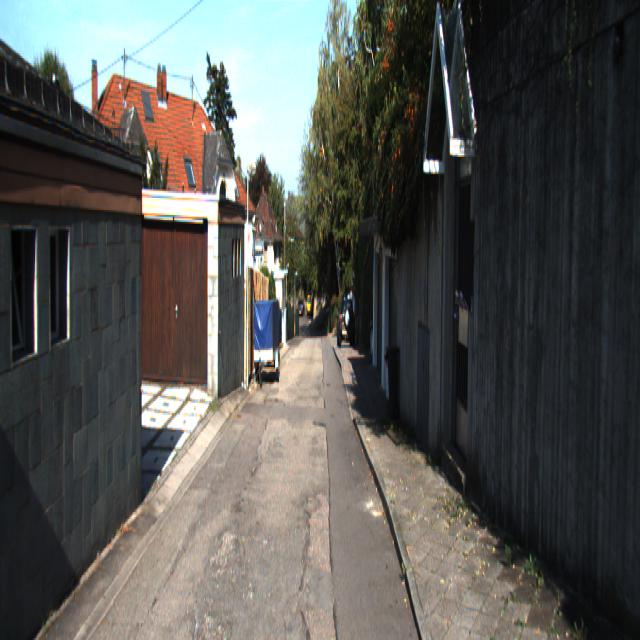Car: (252, 299, 280, 389), (336, 299, 356, 350)
